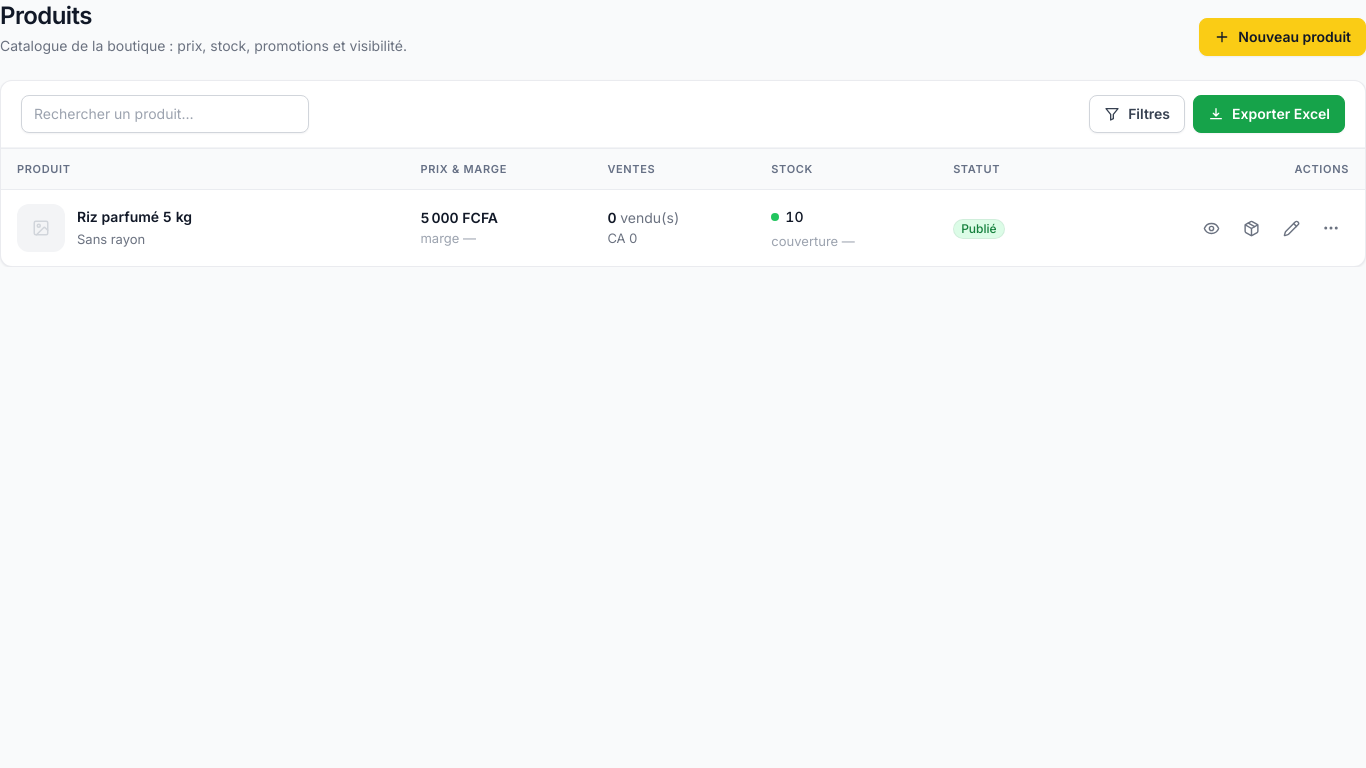
Test case: Produits : modification du stock depuis la liste › refuse l’enregistrement sans motif et affiche le message près du champ
The image size is (1366, 768).
Expected: the link "Riz parfumé 5 kg" is shown, top-left (77, 207), bottom-right (192, 227)
Step 1. Click the button named "Modifier le stock" → (1251, 228), box top-left (1233, 210), bottom-right (1269, 246)
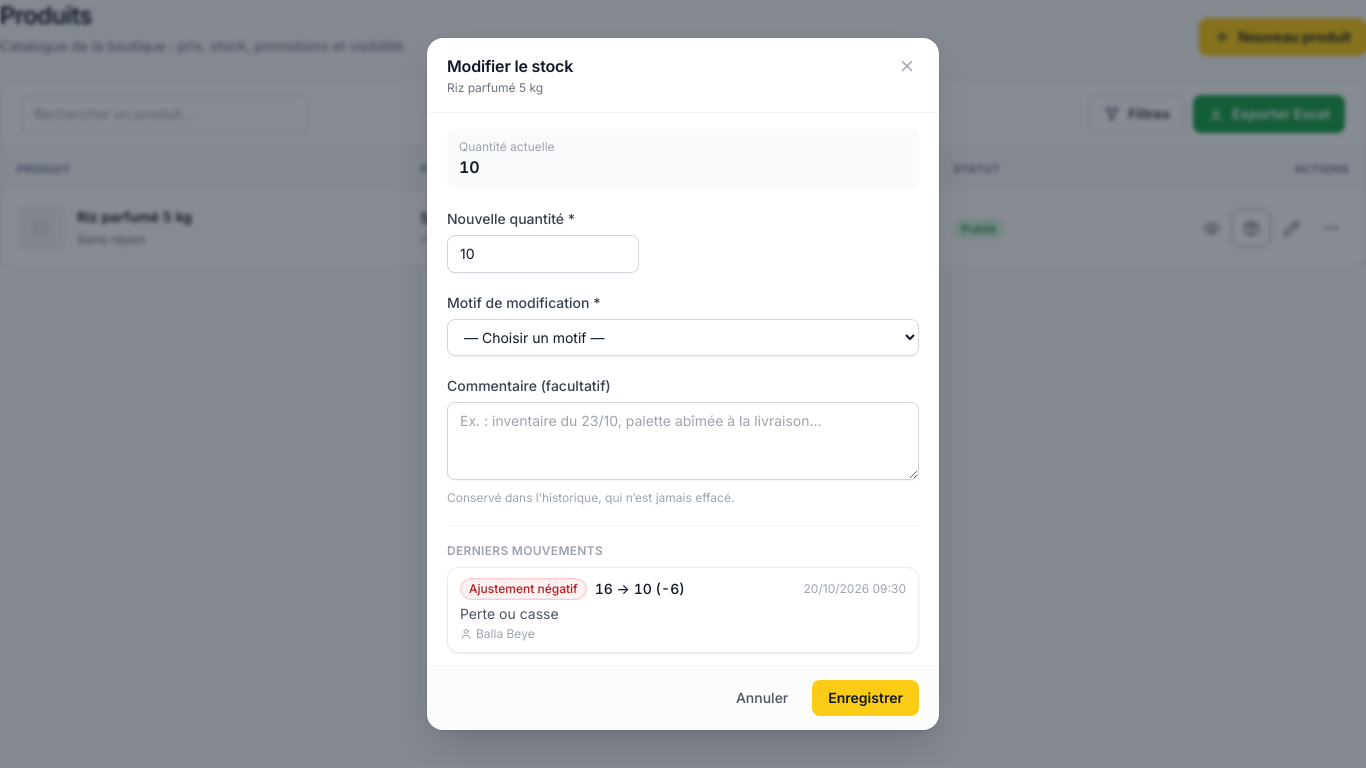
Step 2. Click the button "Enregistrer" → (866, 698), box top-left (812, 680), bottom-right (919, 716)
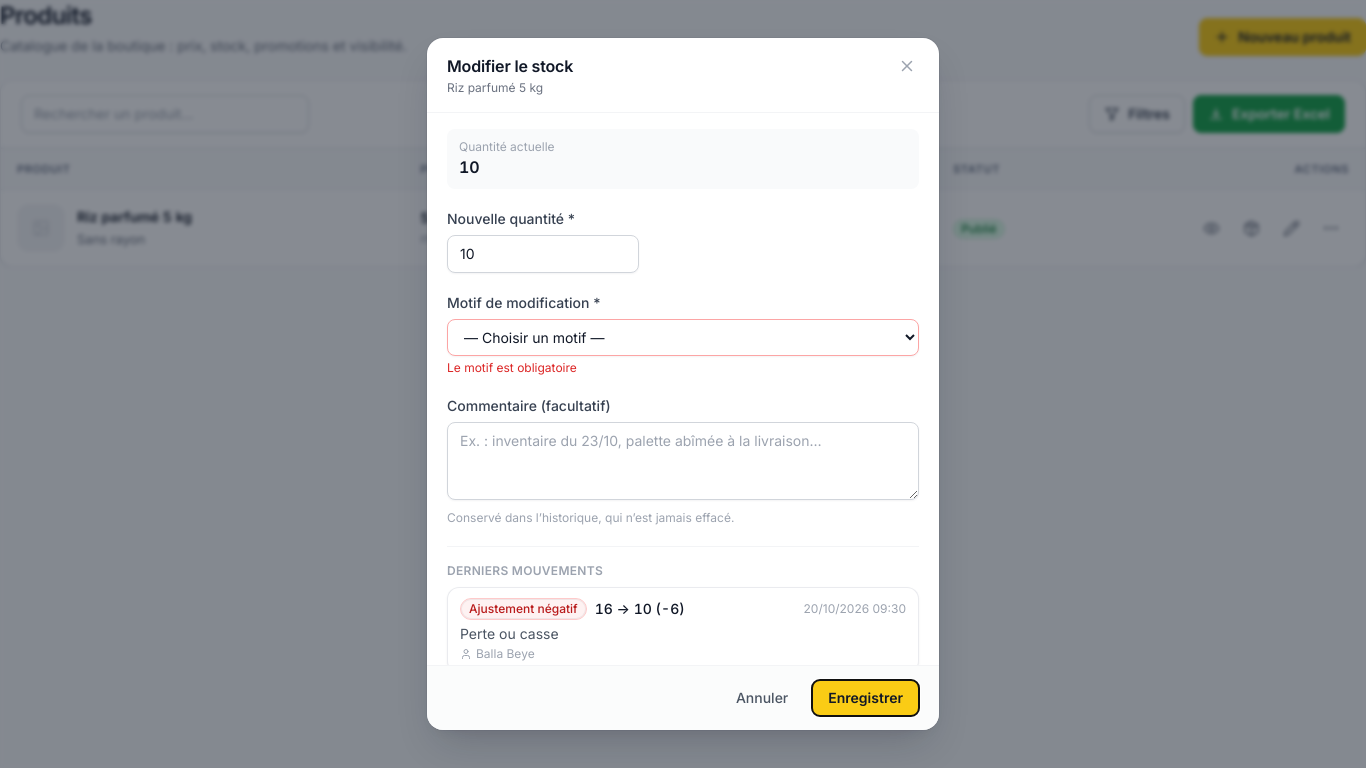
Expected: the text "Le motif est obligatoire" is shown, top-left (447, 360), bottom-right (577, 375)
